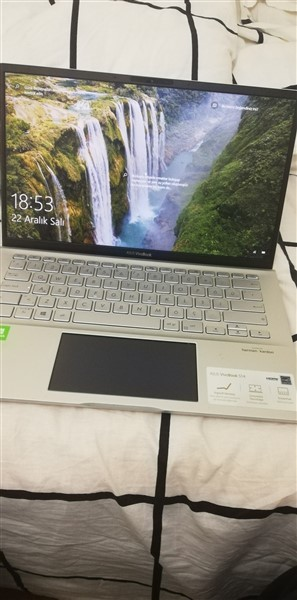laptop: (1, 60, 296, 426)
